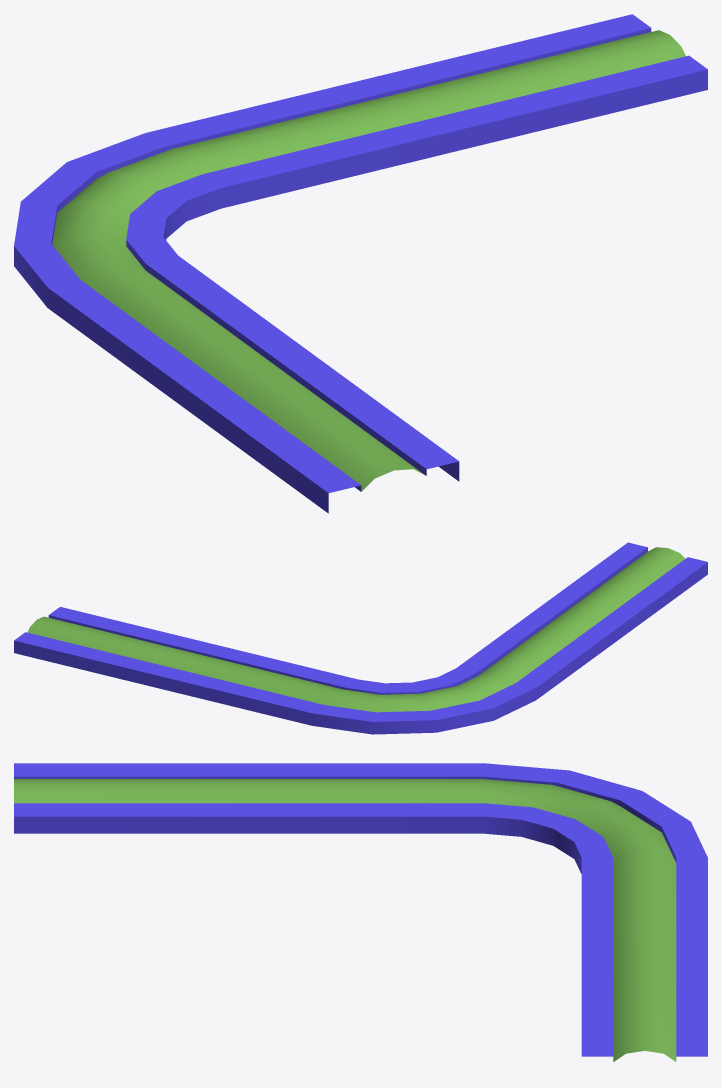
File: PowerCable_Corner_01.FBX
3 renders of one model, top to bottom at view 1: azimuth 30°, elevation 25°; view 2: azimuth 150°, elevation 25°; view 3: azimuth 270°, elevation 25°, orthographic. The views are drawn at different scales.
Parts seen in each view (by area): view 1: PowerCable_Corner_01; view 2: PowerCable_Corner_01; view 3: PowerCable_Corner_01.
Boxes of the visible parts, bbox=[...] form: PowerCable_Corner_01: bbox=[14, 14, 707, 513]; PowerCable_Corner_01: bbox=[14, 542, 707, 734]; PowerCable_Corner_01: bbox=[14, 763, 707, 1061].
Bounding box in the file's own units: 1.1 × 0.04 × 1.1.
